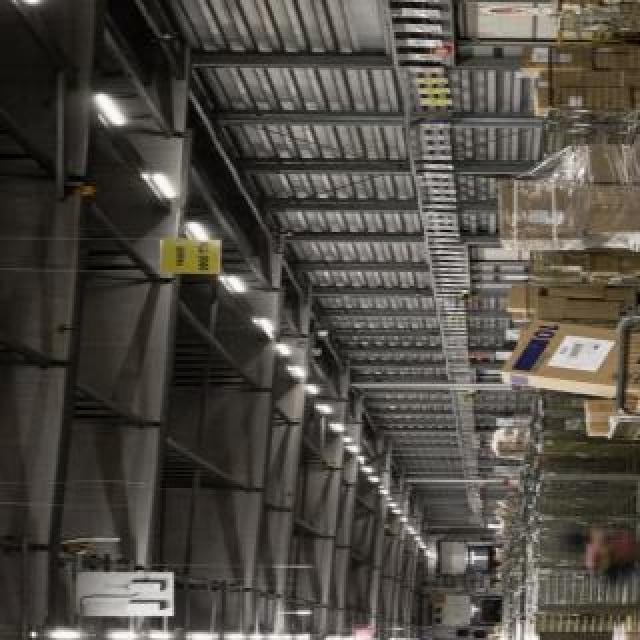fluorescent tube: (93, 74, 143, 142), (141, 169, 183, 209), (180, 217, 220, 255), (228, 262, 256, 305), (249, 314, 287, 343), (42, 618, 82, 640), (280, 353, 313, 378), (265, 338, 300, 360), (100, 622, 142, 640), (144, 620, 176, 640), (180, 624, 220, 640)
